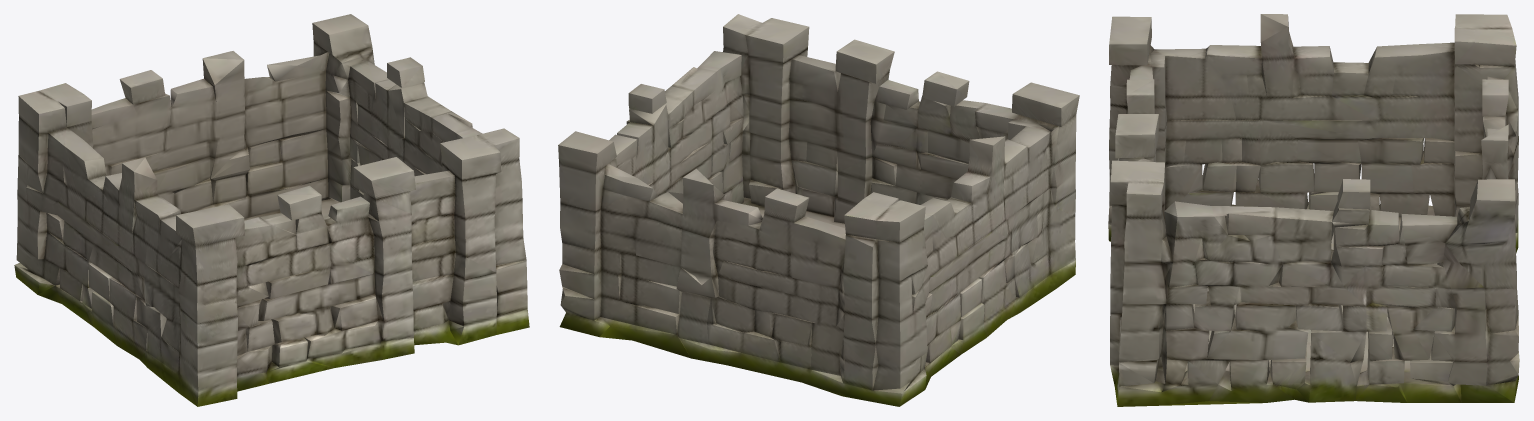
The model's file is stoneWall.glb.
3 views of the same model, side by side, from view 1: azimuth 30°, elevation 25°; view 2: azimuth 150°, elevation 25°; view 3: azimuth 270°, elevation 25° (orthographic). The views are drawn at different scales.
Visible parts, largest first — view 1: model; view 2: model; view 3: model.
Boxes of the visible parts, box(x1,y1,x2,y2) form: model: box(14, 14, 529, 406); model: box(558, 14, 1079, 406); model: box(1108, 14, 1519, 406).
Bounding box in the file's own units: 1.9 × 1 × 1.76.
Materials: 1 (1 with a texture image).
